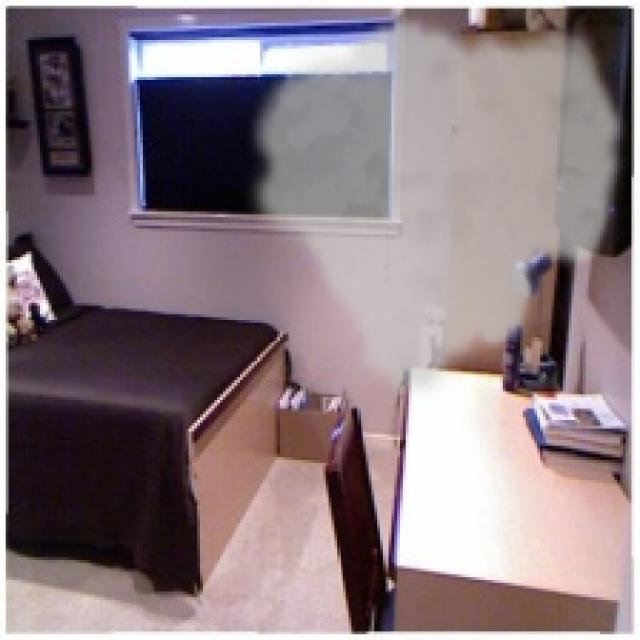smoke: (240, 14, 629, 406)
